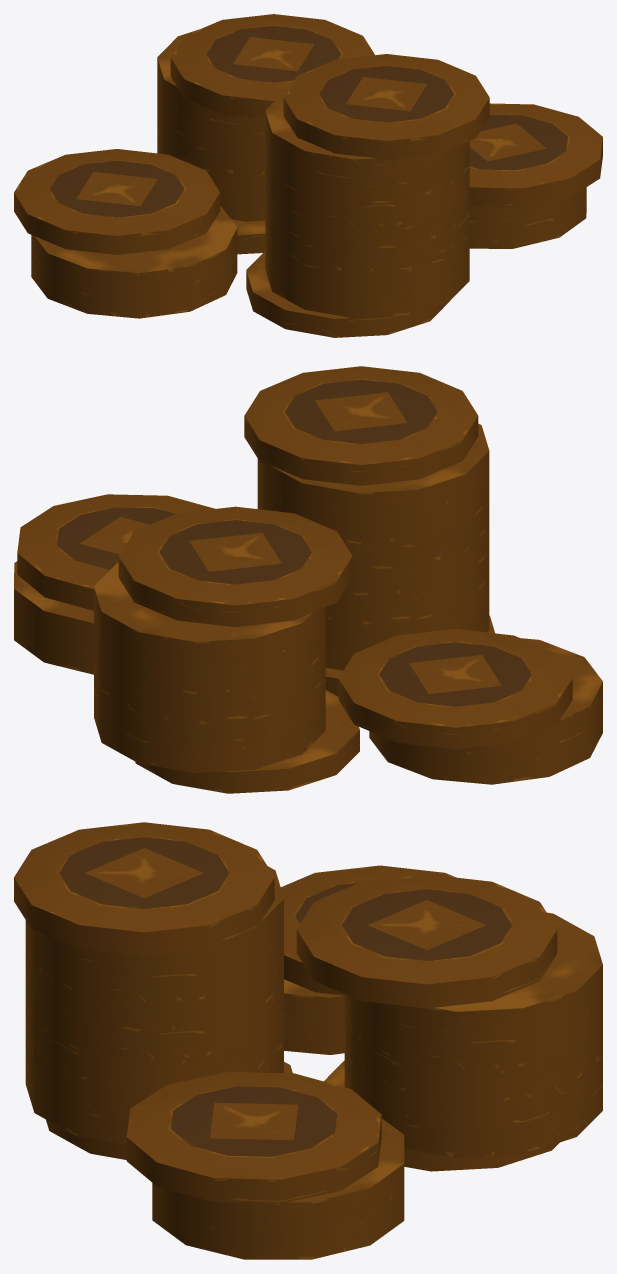
Rendered from coin_pile.glb.
3 renders of one model, top to bottom at view 1: azimuth 30°, elevation 25°; view 2: azimuth 150°, elevation 25°; view 3: azimuth 270°, elevation 25°, orthographic. The views are drawn at different scales.
Parts seen in each view (by area): view 1: Coin_Pile; view 2: Coin_Pile; view 3: Coin_Pile.
Boxes of the visible parts, x1,y1,x2,y2 form: Coin_Pile: (14,14,602,337); Coin_Pile: (14,366,602,793); Coin_Pile: (14,822,602,1259).
Bounding box in the file's own units: 0.1975 × 0.0735 × 0.1542.
Materials: 1 (1 with a texture image).
